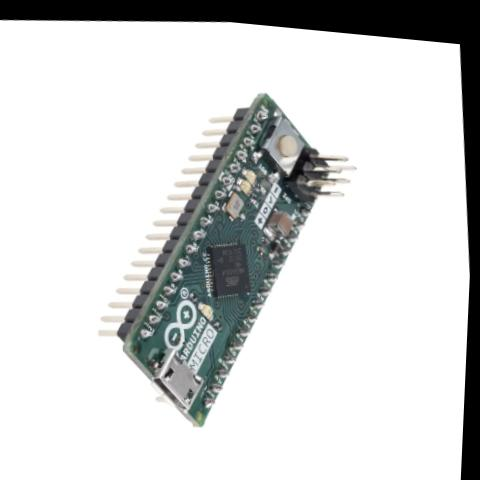Arduino-Micro: (76, 64, 386, 446)
